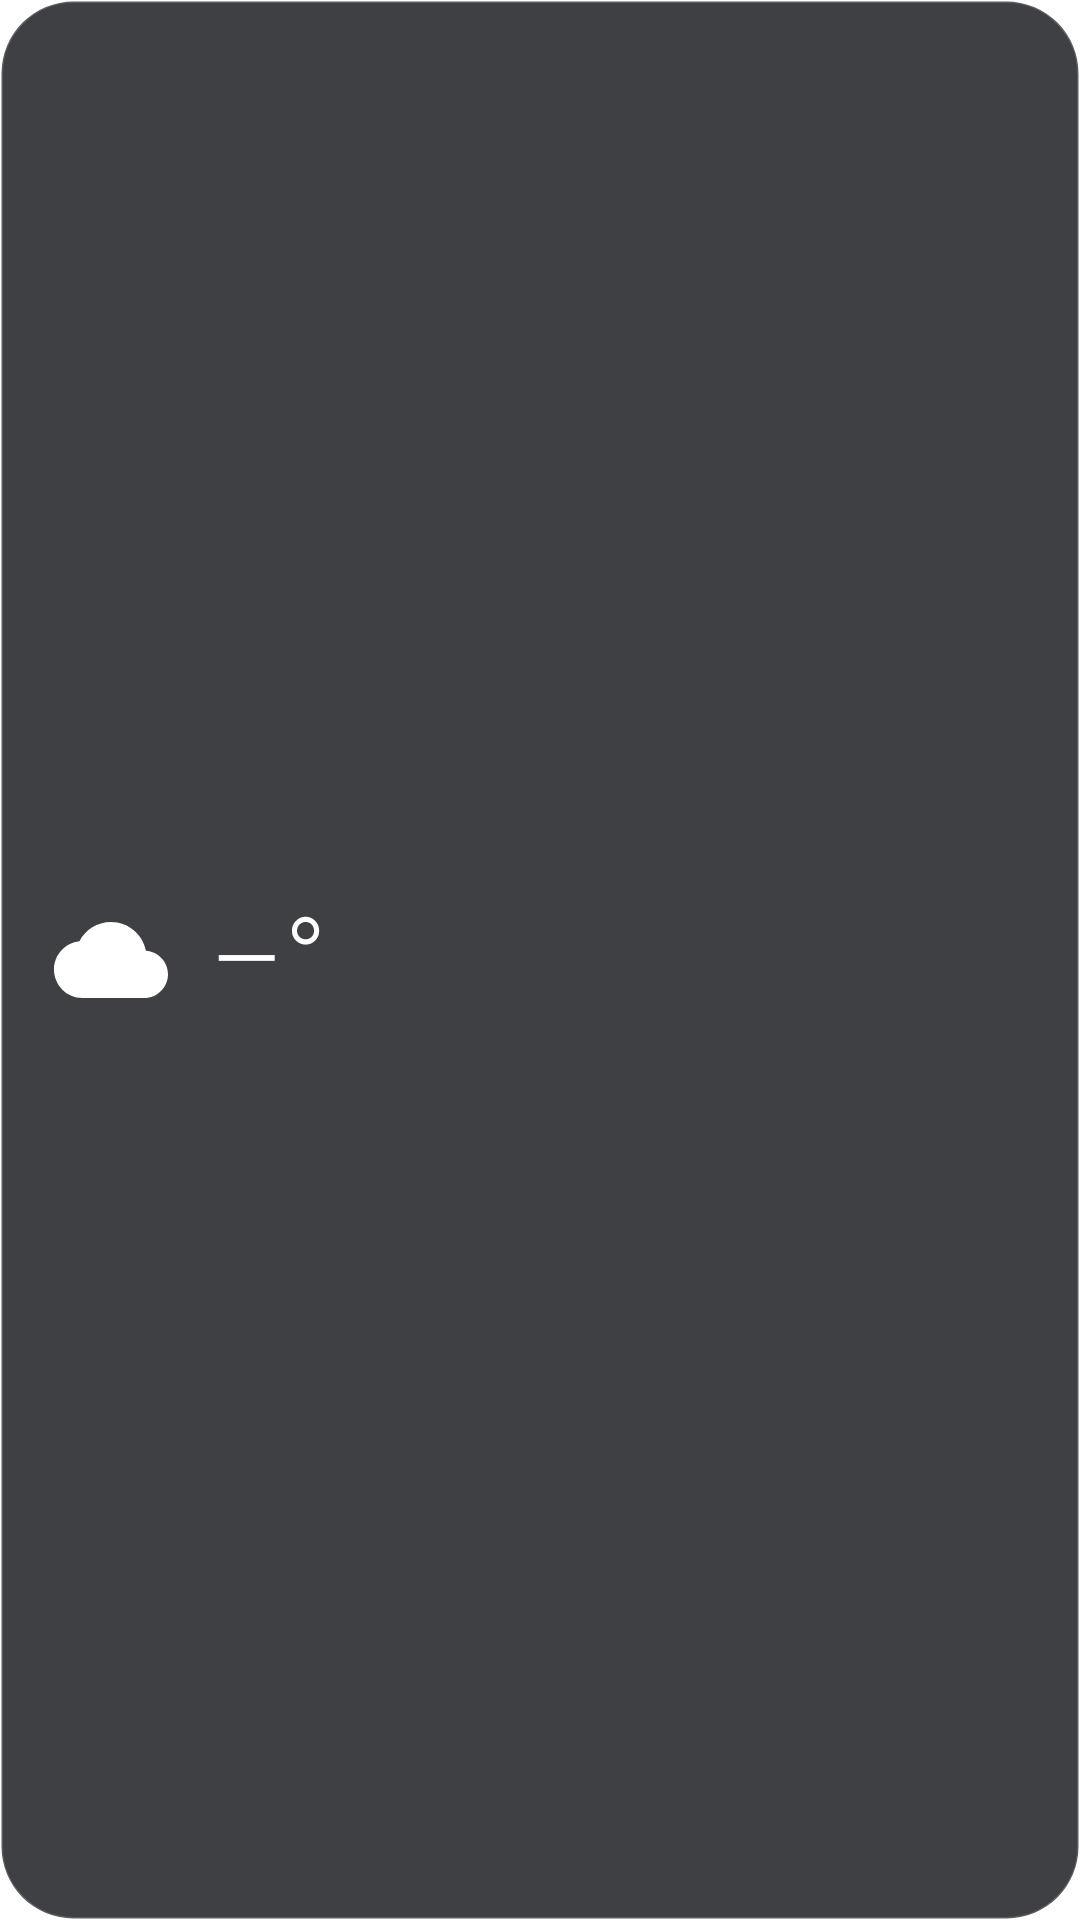

Where to tap for icons on this 1080*1920 app screen, as (x,y):
Weather: (111,960)
